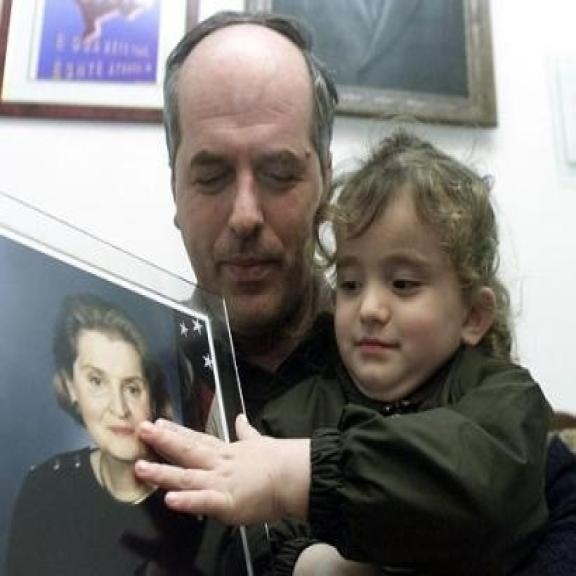face: (170, 32, 338, 338), (332, 160, 499, 389), (59, 315, 164, 462)
